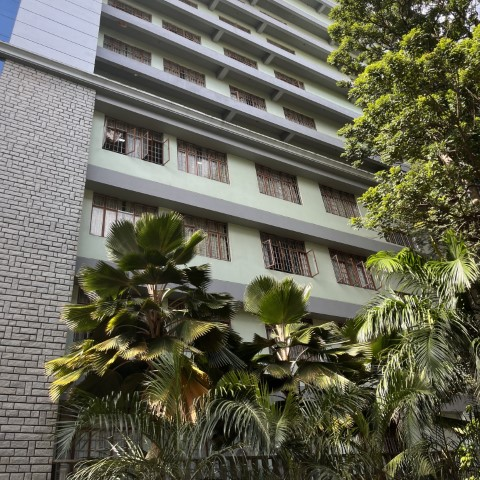Central Block: (2, 1, 388, 315)
